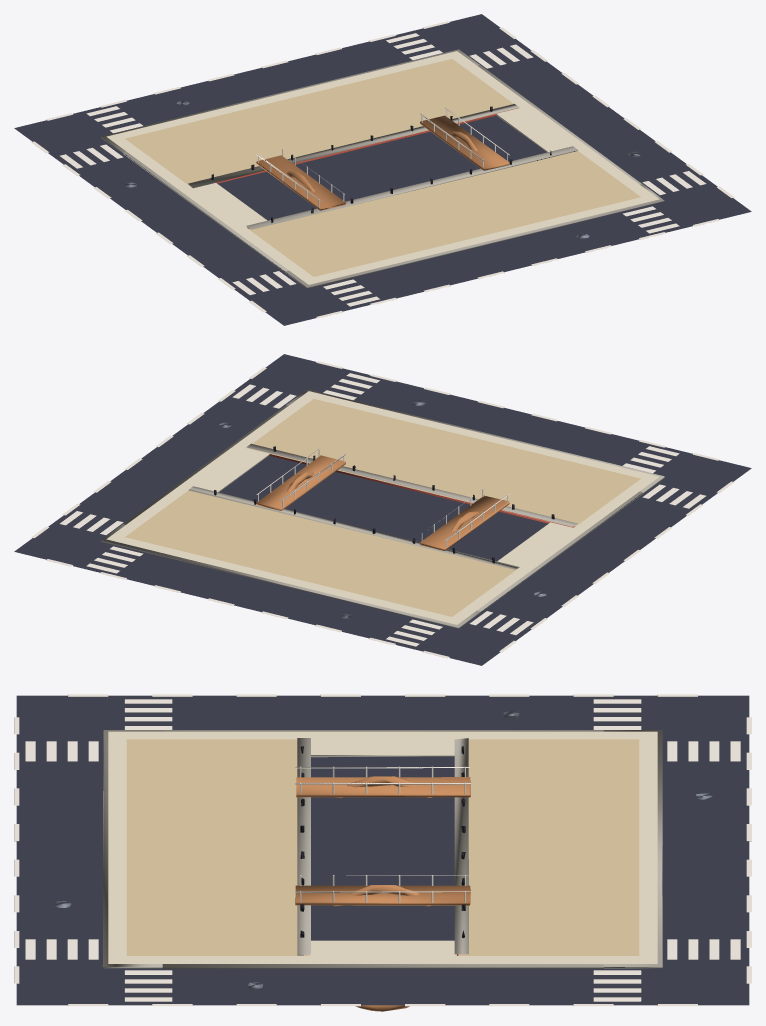
File: tile_canal.glb
The picture shows the model from 3 angles, top to bottom: view 1: azimuth 30°, elevation 25°; view 2: azimuth 150°, elevation 25°; view 3: azimuth 270°, elevation 25°; orthographic projection. The views are drawn at different scales.
Visible parts, largest first — view 1: tile_canal; view 2: tile_canal; view 3: tile_canal.
Boxes of the visible parts, <box> form: tile_canal: <box>14,14,751,325</box>; tile_canal: <box>14,354,751,665</box>; tile_canal: <box>14,694,751,1011</box>.
Bounding box in the file's own units: 40.3 × 7.72 × 40.3.
Materials: 1 (1 with a texture image).
